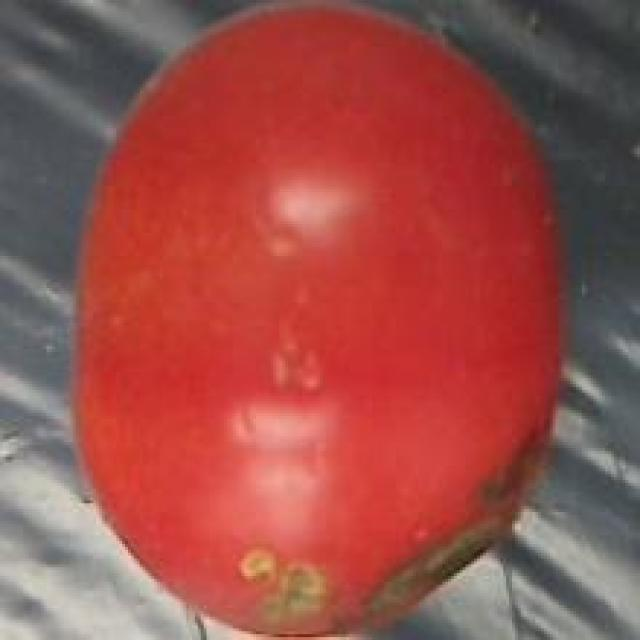overripe tomato: (64, 0, 573, 640)
